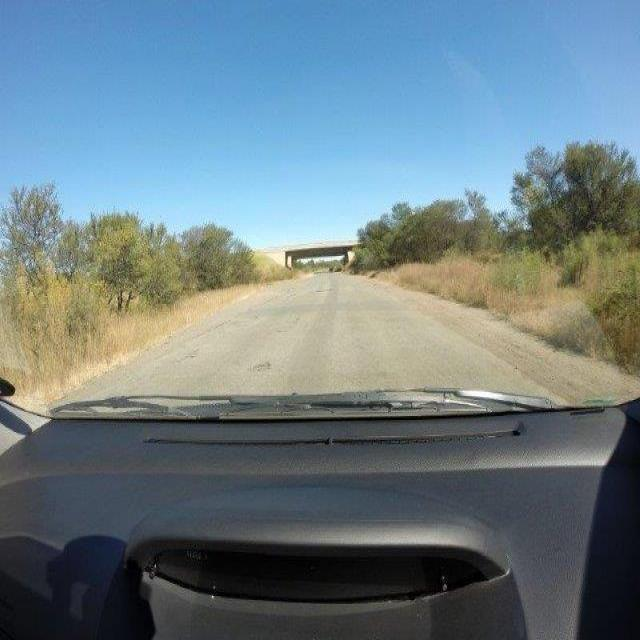lubang: (244, 356, 271, 376), (313, 287, 335, 294)
